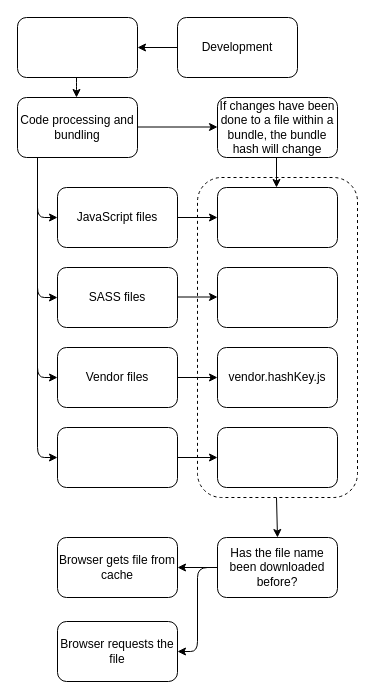
Some shapes in this 375 by 699 pixel diagram are drawn without their labels. Each missing label, with the box of its shape:
Build: (16, 16, 138, 78)
bundle.hashKey.css: (216, 266, 338, 328)
bundle.hashKey.js: (216, 186, 338, 248)
Compression: (216, 426, 338, 488)
Images: (56, 426, 178, 488)
